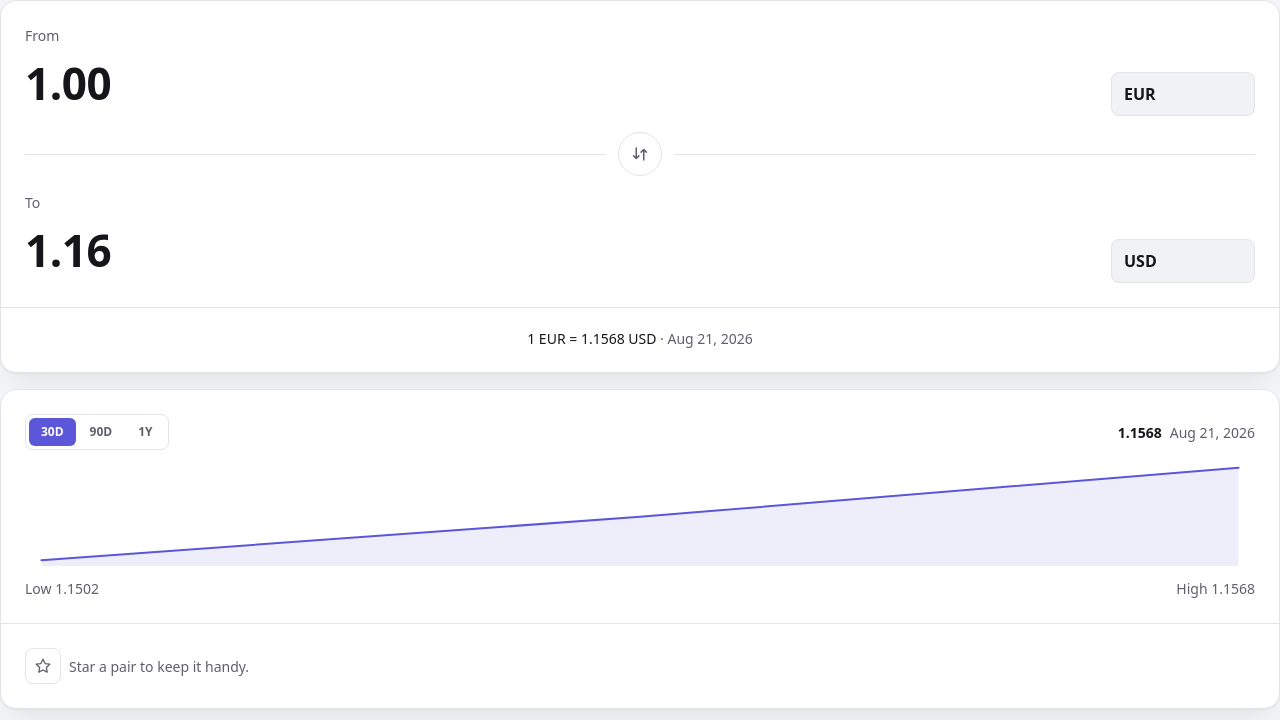
ConverterCard › converts what the user types, with separators
Expected: the field with id "amount-to" holds "1.16", [25,217,1095,283]
Replace the text in the field with id "amount-from" with "1000000": (560, 83) [25,50,1095,116]
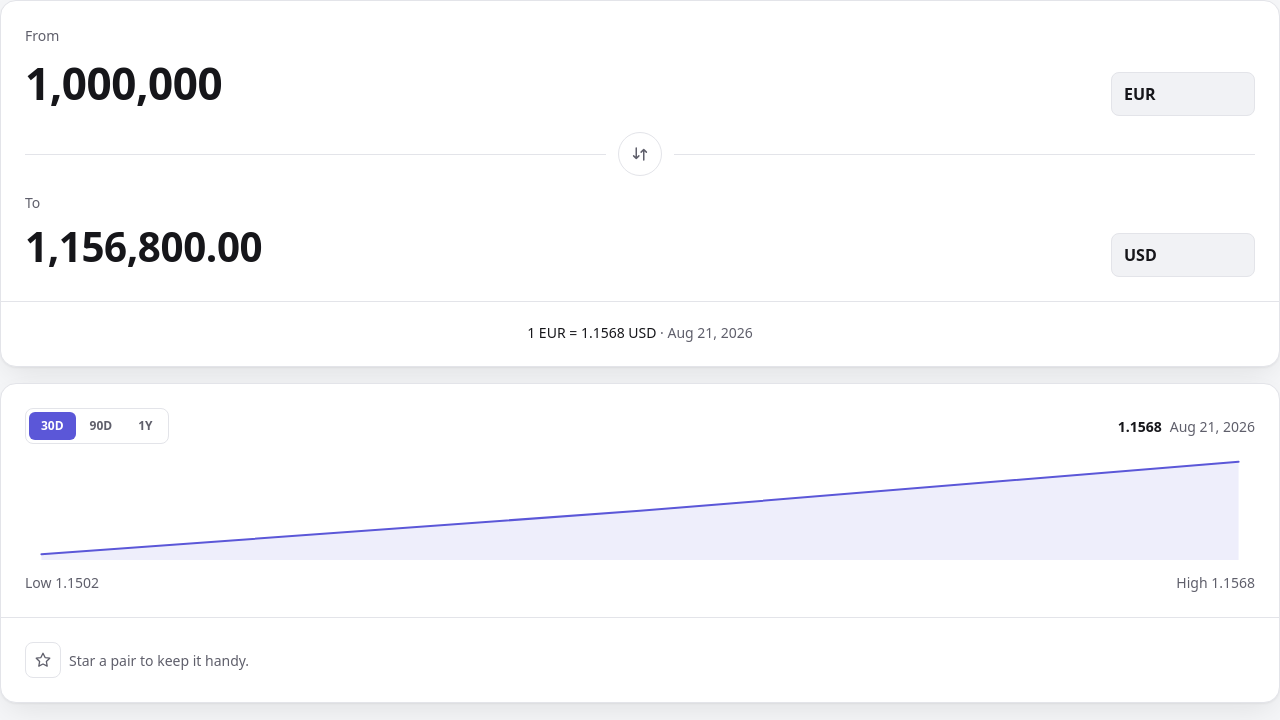
Expected: the field with id "amount-from" holds "1,000,000", [25,50,1095,116]
Expected: the field with id "amount-to" holds "1,156,800.00", [25,217,1095,278]
